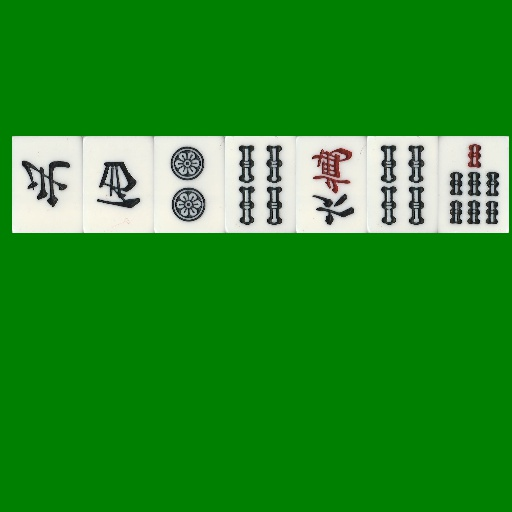2p: (154, 136, 225, 233)
4s: (225, 136, 296, 233), (367, 136, 438, 233)
6m: (296, 136, 367, 233)
7s: (438, 136, 509, 233)
north: (12, 136, 83, 233)
west: (83, 136, 154, 233)
